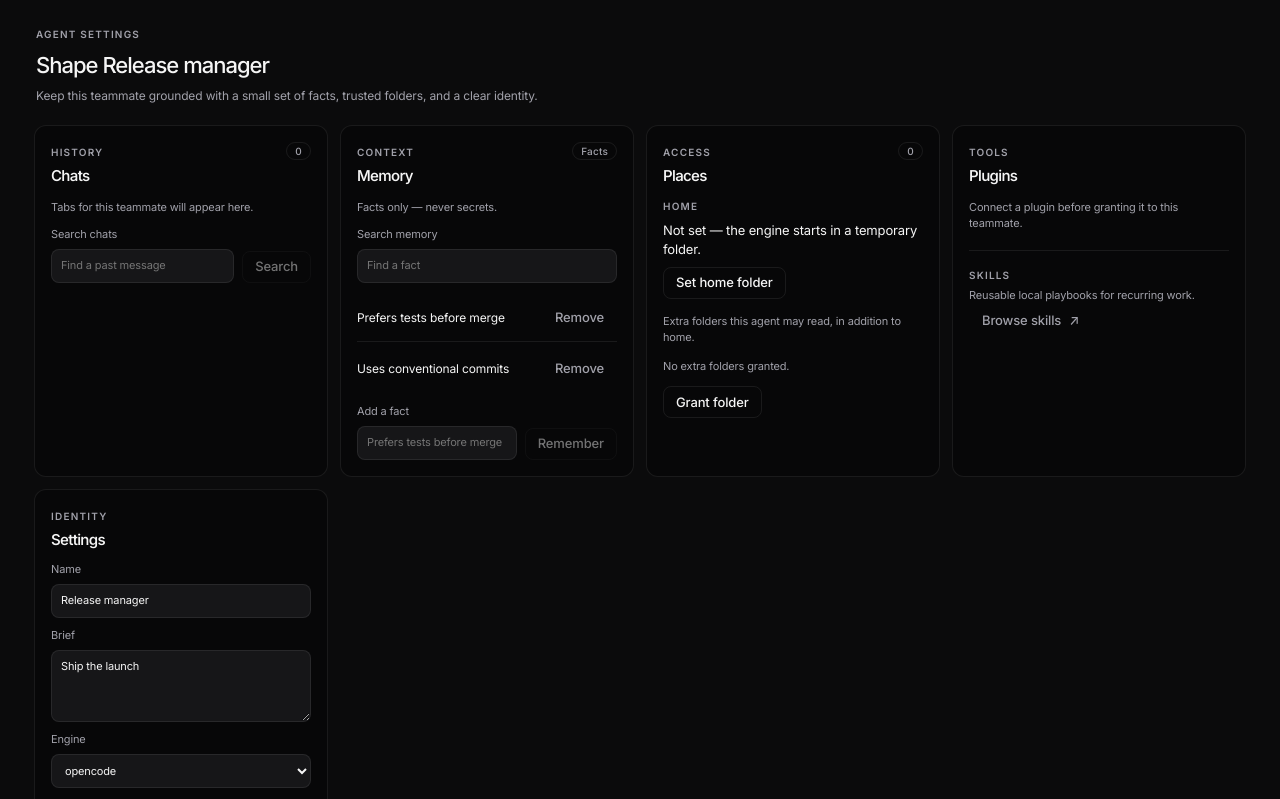
it: shows empty-match copy and still lets a fact be added while filtering
Check: the text "Prefers tests before merge" is shown, box [357, 309, 505, 327]
Type "xyzzy" into the field labelled "Search memory" at {"x": 487, "y": 266}, box [357, 249, 617, 283]
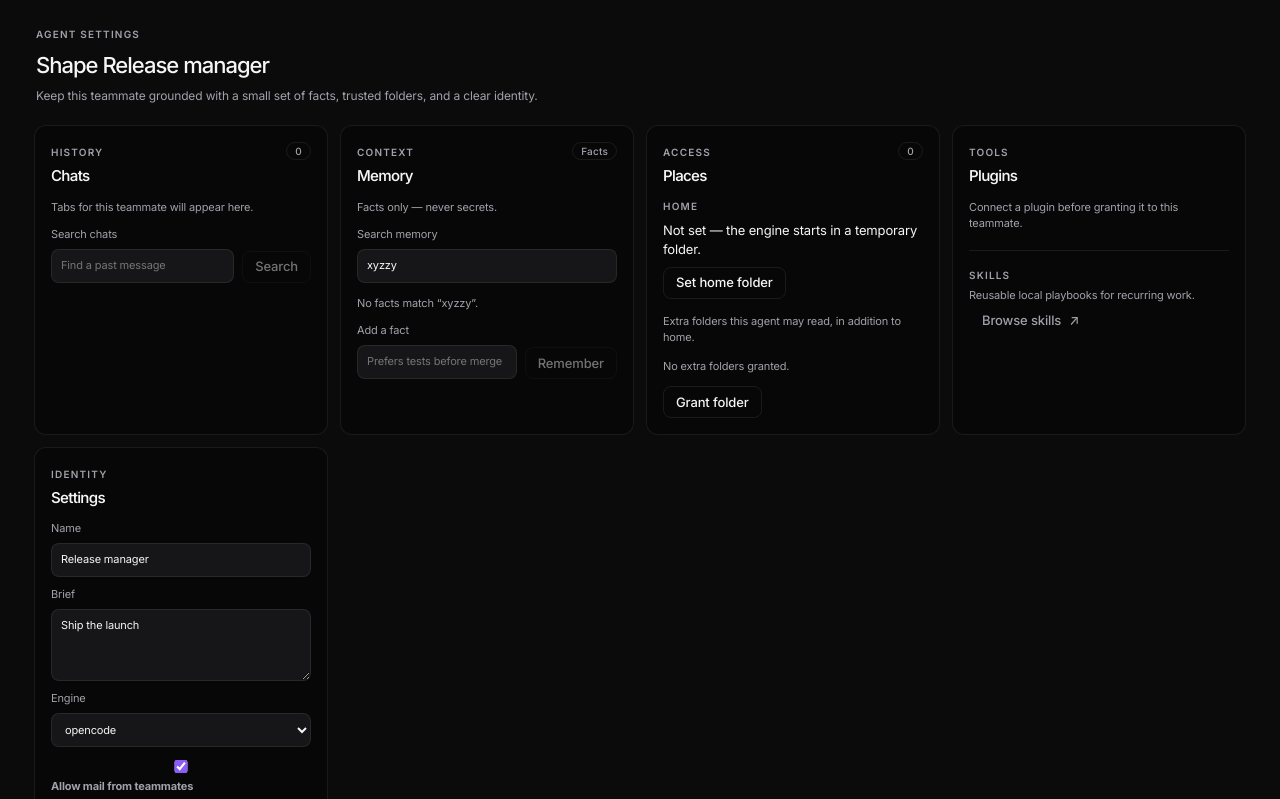
Check: the field with placeholder "Prefers tests before merge" is shown, box [357, 345, 517, 379]
Check: the text "No facts match “xyzzy”." is shown, box [357, 296, 478, 310]
Check: the text "Uses conventional commits" is gone
Replace the text in the field labelled "Search memory" with "tests" at {"x": 487, "y": 266}, box [357, 249, 617, 283]
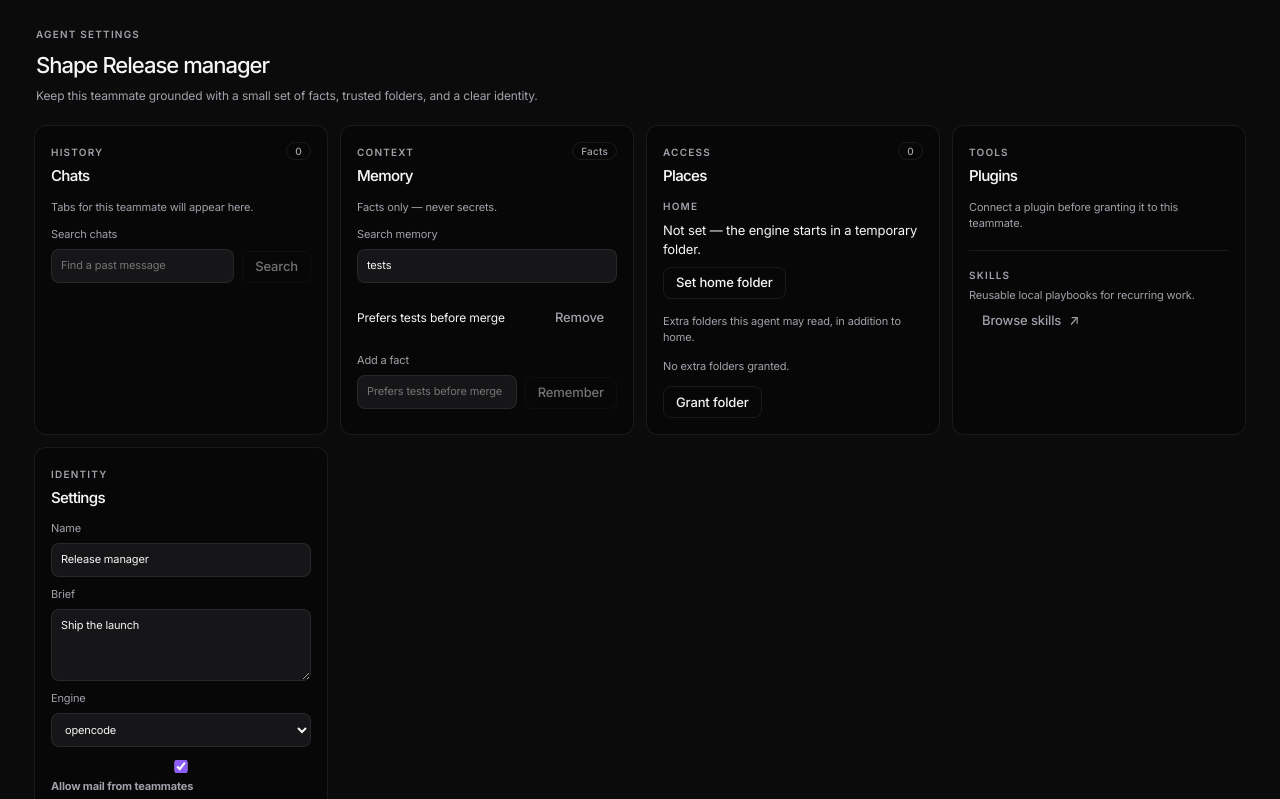
Check: the text "Uses conventional commits" is not shown
Check: the text "Prefers tests before merge" is shown, box [357, 309, 505, 327]
Type "Also prefers tests" into the field with placeholder "Prefers tests before merge" at {"x": 437, "y": 392}, box [357, 375, 517, 409]
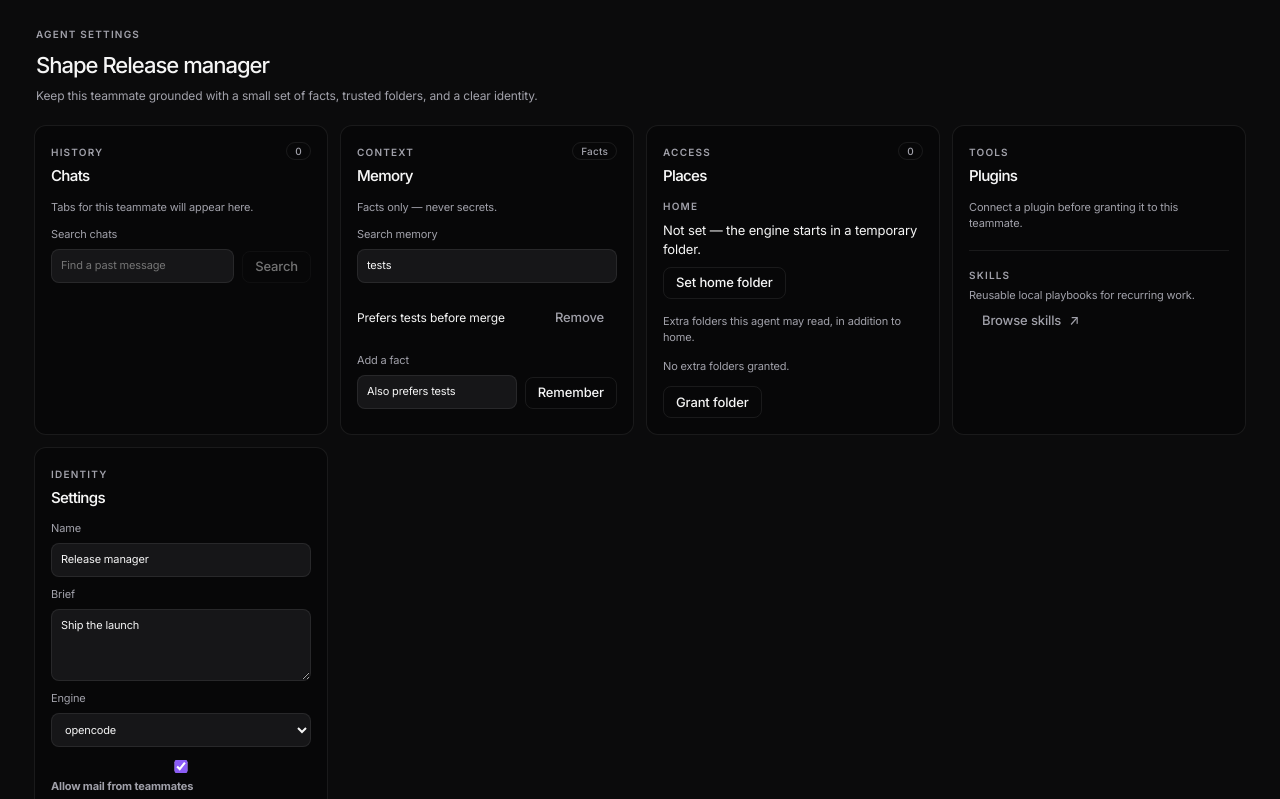
Click the button "Remember" at {"x": 571, "y": 393}, box [525, 377, 617, 409]
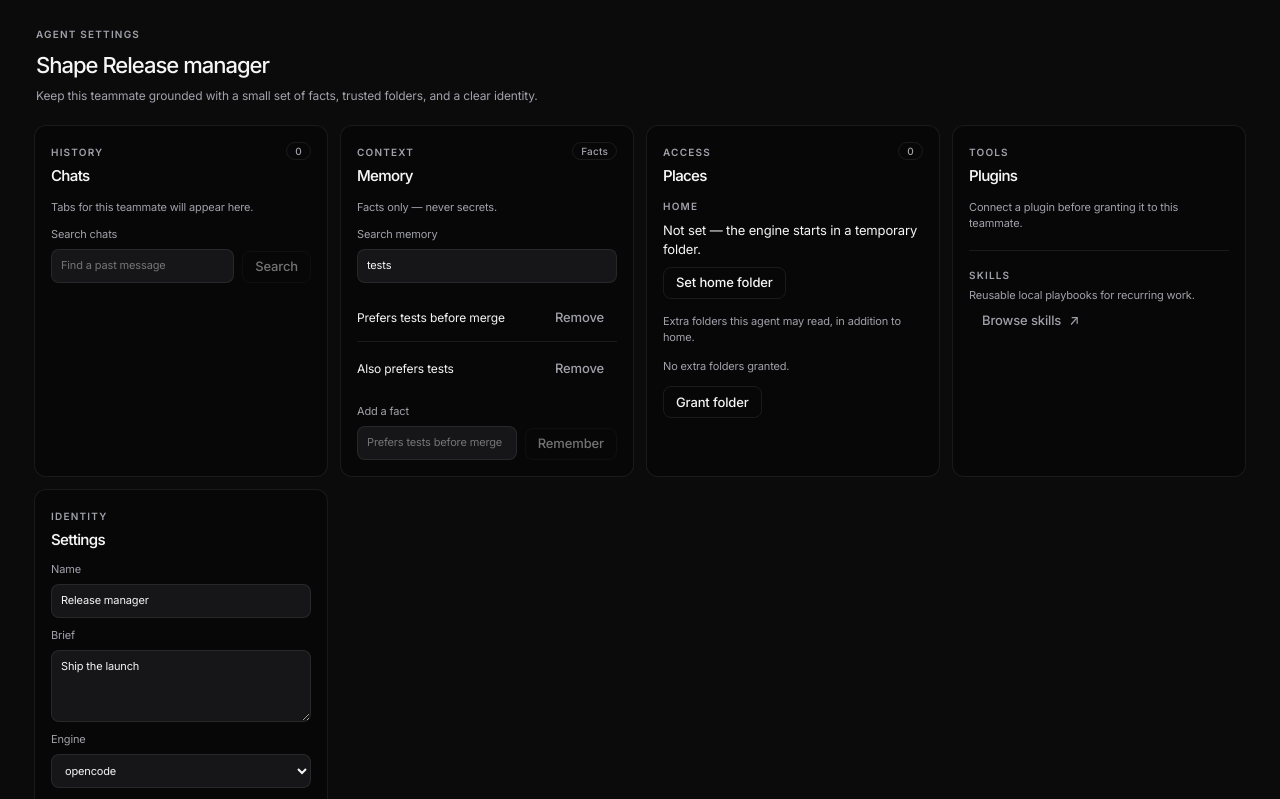
Check: the text "Uses conventional commits" is not shown
Check: the text "Prefers tests before merge" is shown, box [357, 309, 505, 327]
Check: the text "Also prefers tests" is shown, box [357, 360, 454, 378]
